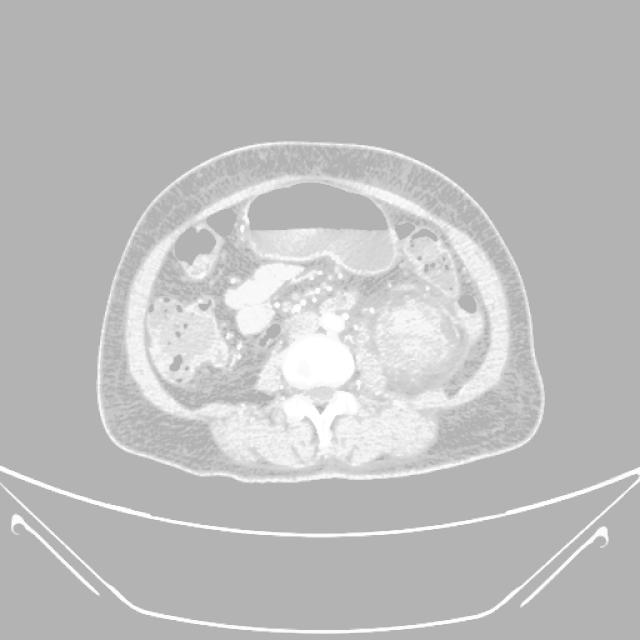TUMOR: (98, 220, 510, 385)
